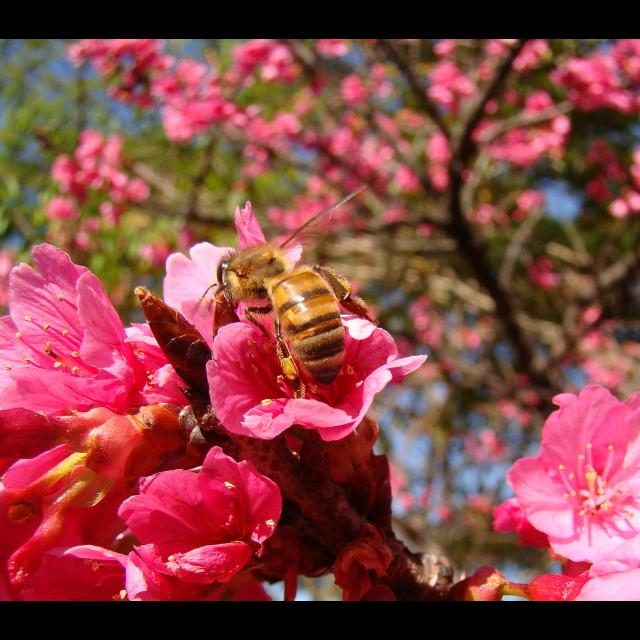Flower: (1, 39, 639, 601)
